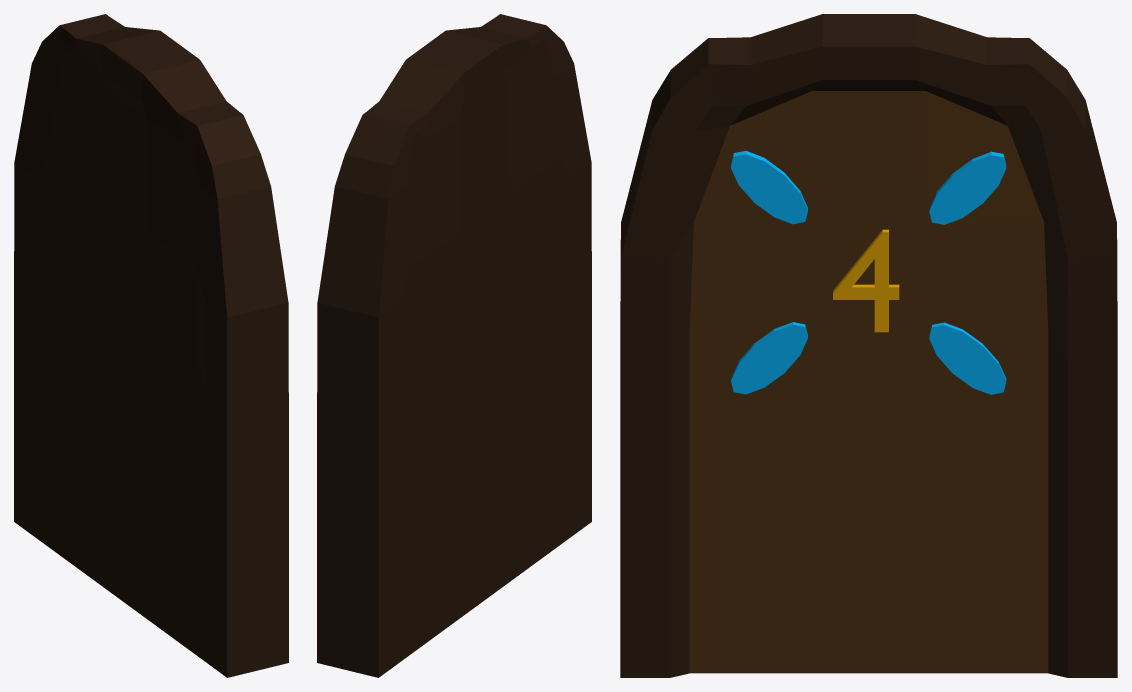
Rendered from Door4.glb.
The picture shows the model from 3 angles, left to right: view 1: azimuth 30°, elevation 25°; view 2: azimuth 150°, elevation 25°; view 3: azimuth 270°, elevation 25°; orthographic projection. The views are drawn at different scales.
Parts seen in each view (by area): view 1: door1; view 2: door1; view 3: door1, Text.
Boxes of the visible parts, x1,y1,x2,y2 form: door1: (14,14,288,677); door1: (317,14,591,677); door1: (620,14,1117,677); Text: (833,229,899,332).
Bounding box in the file's own units: 0.3892 × 3.27 × 2.34.
